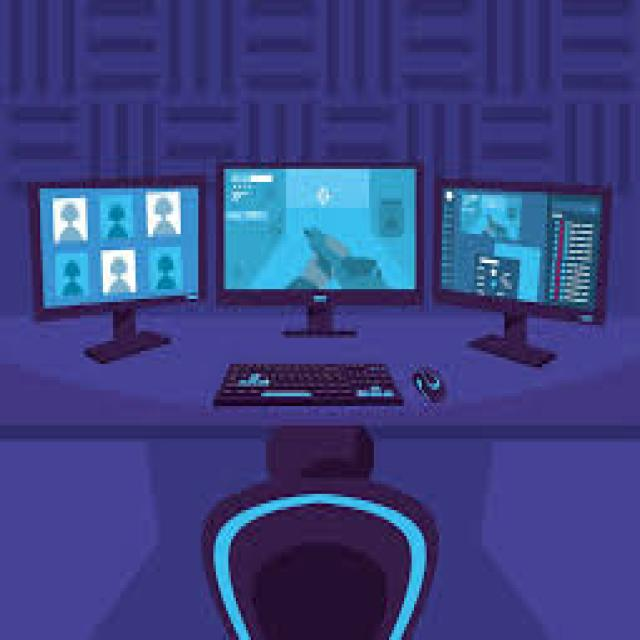monitor: (213, 156, 430, 343)
